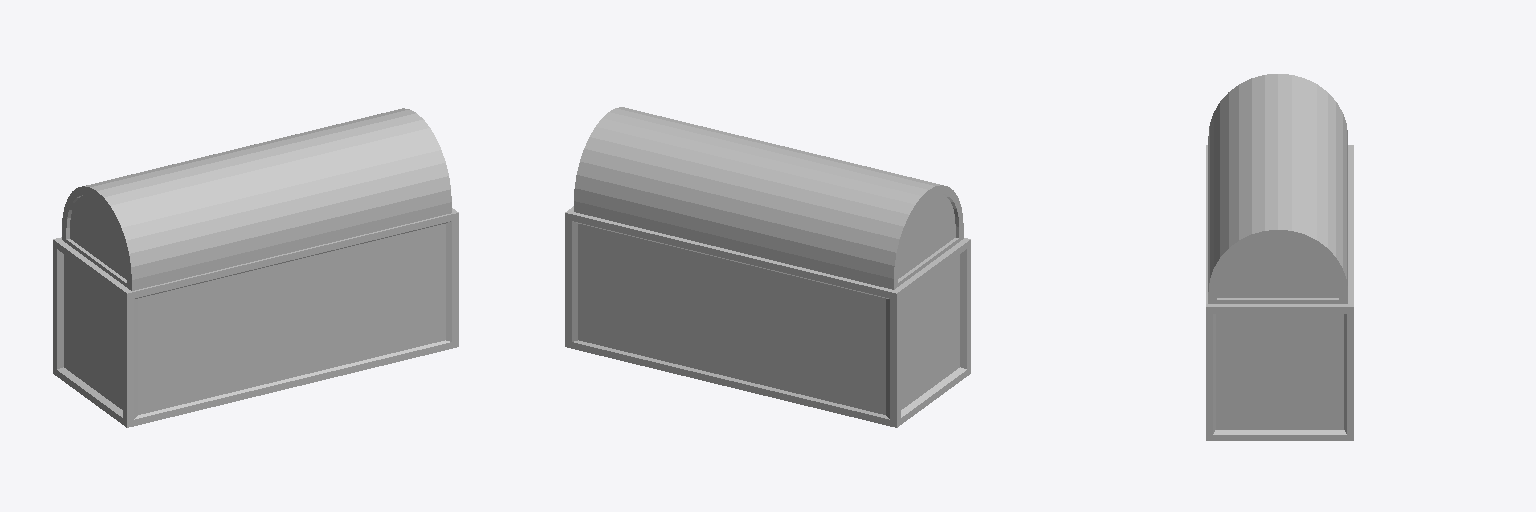
File: chest.obj
3 renders of one model, left to right at view 1: azimuth 30°, elevation 25°; view 2: azimuth 150°, elevation 25°; view 3: azimuth 270°, elevation 25°, orthographic.
Parts seen in each view (by area): view 1: ChestBody_Cube, ChestTop_Cylinder; view 2: ChestBody_Cube, ChestTop_Cylinder; view 3: ChestTop_Cylinder, ChestBody_Cube.
Boxes of the visible parts, box(x1,y1,x2,y2) form: ChestBody_Cube: box(53, 208, 458, 427); ChestTop_Cylinder: box(62, 108, 451, 290); ChestBody_Cube: box(565, 206, 970, 427); ChestTop_Cylinder: box(574, 107, 963, 289); ChestTop_Cylinder: box(1208, 74, 1347, 303); ChestBody_Cube: box(1206, 145, 1353, 440).
Size of the model in its own units: 5.17 by 3.11 by 2.